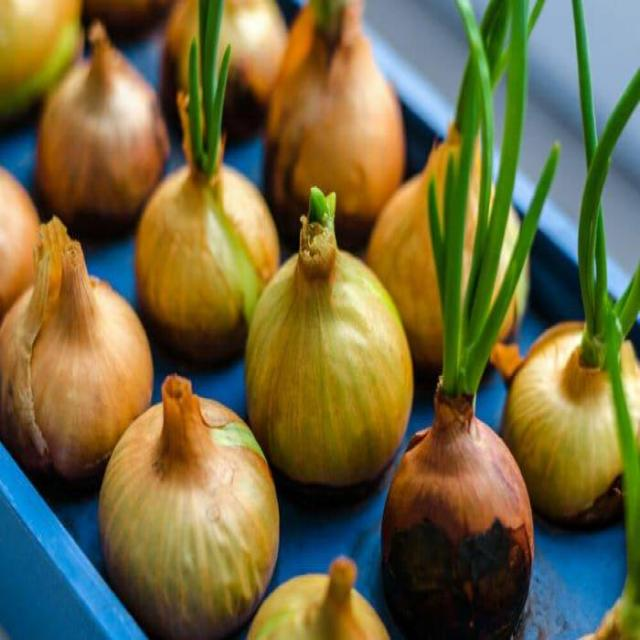Onion: (419, 0, 547, 429), (110, 355, 272, 640), (398, 408, 532, 638), (12, 209, 146, 438), (568, 0, 640, 380), (46, 18, 162, 206), (174, 0, 230, 192), (290, 171, 344, 293), (297, 5, 378, 86), (56, 235, 98, 343)
